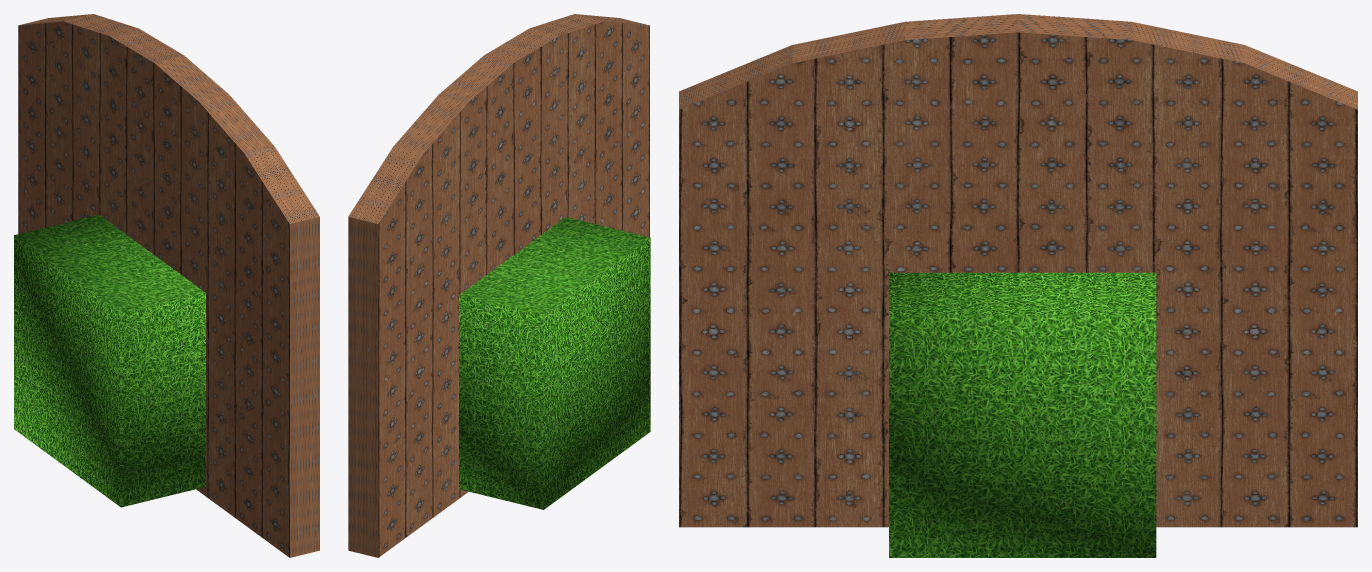
Rendered from grass(fixed).fbx.
3 renders of one model, left to right at view 1: azimuth 30°, elevation 25°; view 2: azimuth 150°, elevation 25°; view 3: azimuth 270°, elevation 25°, orthographic. The views are drawn at different scales.
Visible parts, largest first — view 1: Cube, Cube.001; view 2: Cube, Cube.001; view 3: Cube, Cube.001.
Part boxes in pixels (x1,y1,x2,y2): Cube: [18, 14, 319, 557]; Cube.001: [14, 214, 205, 507]; Cube: [348, 14, 649, 557]; Cube.001: [459, 217, 650, 509]; Cube: [679, 14, 1357, 527]; Cube.001: [889, 272, 1156, 557].
Size of the model in its own units: 200 by 408 by 507.
